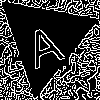A: (20, 14, 66, 70)
